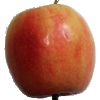apple: (5, 5, 95, 97)
